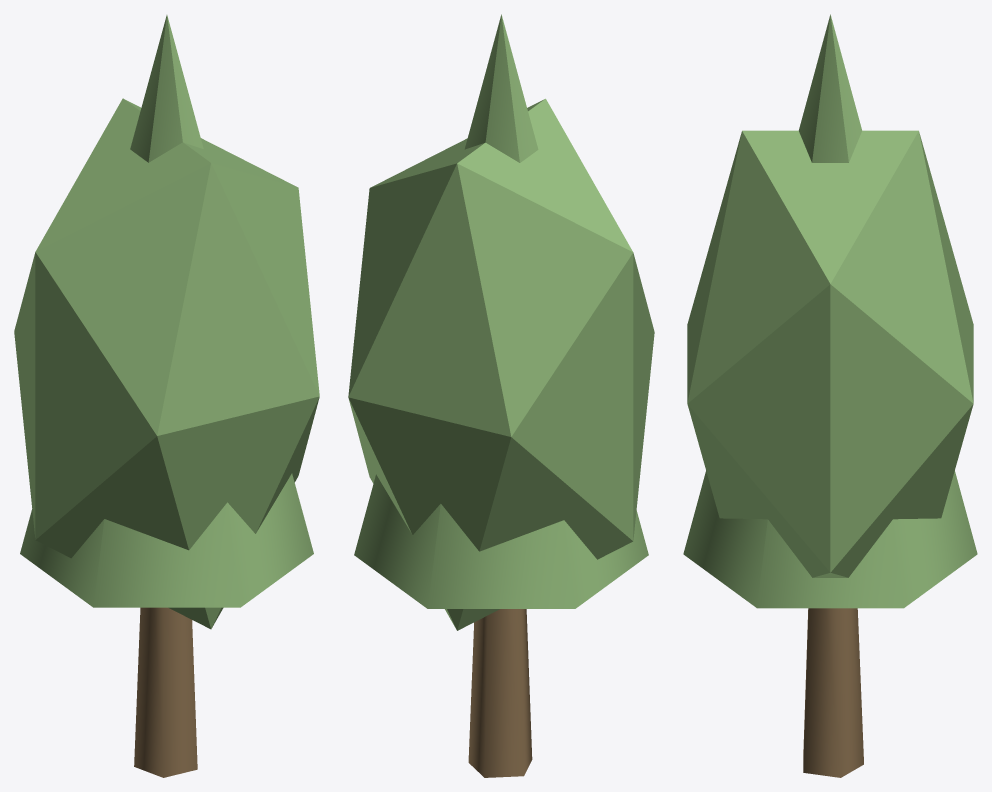
Rendered from Tree_3.glb.
The picture shows the model from 3 angles, left to right: view 1: azimuth 30°, elevation 25°; view 2: azimuth 150°, elevation 25°; view 3: azimuth 270°, elevation 25°; orthographic projection.
Visible parts, largest first — view 1: Tree_3; view 2: Tree_3; view 3: Tree_3.
Part boxes in pixels (bbox=[...]): Tree_3: bbox=[14, 15, 319, 777]; Tree_3: bbox=[348, 14, 654, 777]; Tree_3: bbox=[683, 14, 977, 777].
Size of the model in its own units: 2.89 by 7.88 by 2.8.
